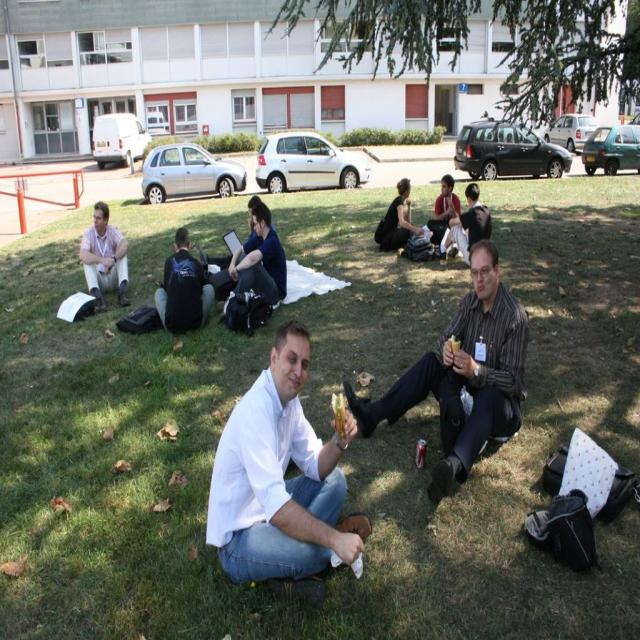car: (252, 123, 369, 191), (454, 115, 571, 179), (141, 141, 246, 202)
